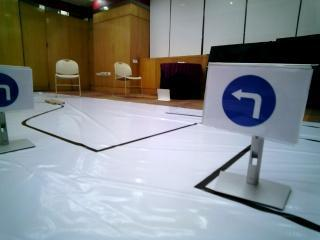left: (209, 66, 294, 136)
